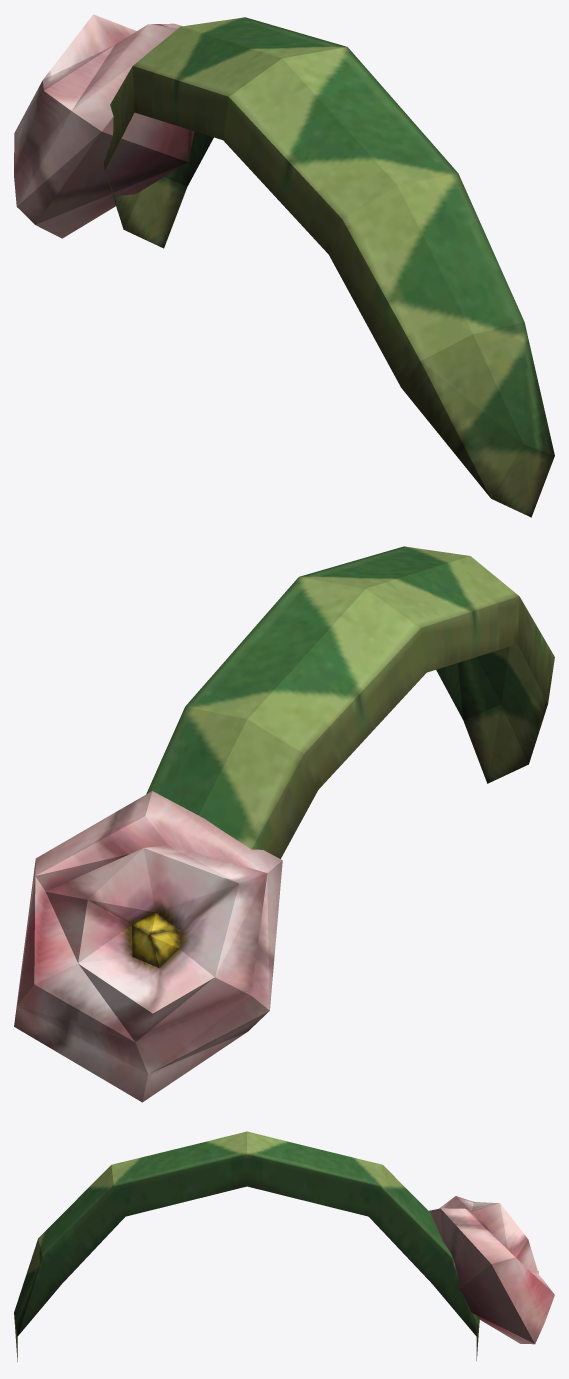
Rendered from Sheep_flowerBand.obj.
The picture shows the model from 3 angles, top to bottom: view 1: azimuth 30°, elevation 25°; view 2: azimuth 150°, elevation 25°; view 3: azimuth 270°, elevation 25°; orthographic projection. The views are drawn at different scales.
Visible parts, largest first — view 1: Sheep_flowerBand_tri; view 2: Sheep_flowerBand_tri; view 3: Sheep_flowerBand_tri.
Part boxes in pixels (x1,y1,x2,y2): Sheep_flowerBand_tri: (14,14,554,517); Sheep_flowerBand_tri: (14,546,554,1102); Sheep_flowerBand_tri: (14,1131,554,1361).
Size of the model in its own units: 0.0728 by 0.1118 by 0.2577.
Materials: 1 (1 with a texture image).
